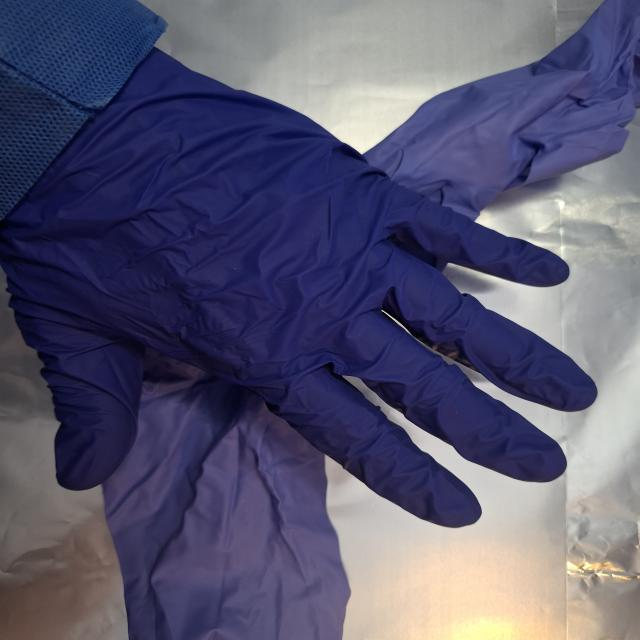glove_on: (2, 51, 601, 530)
